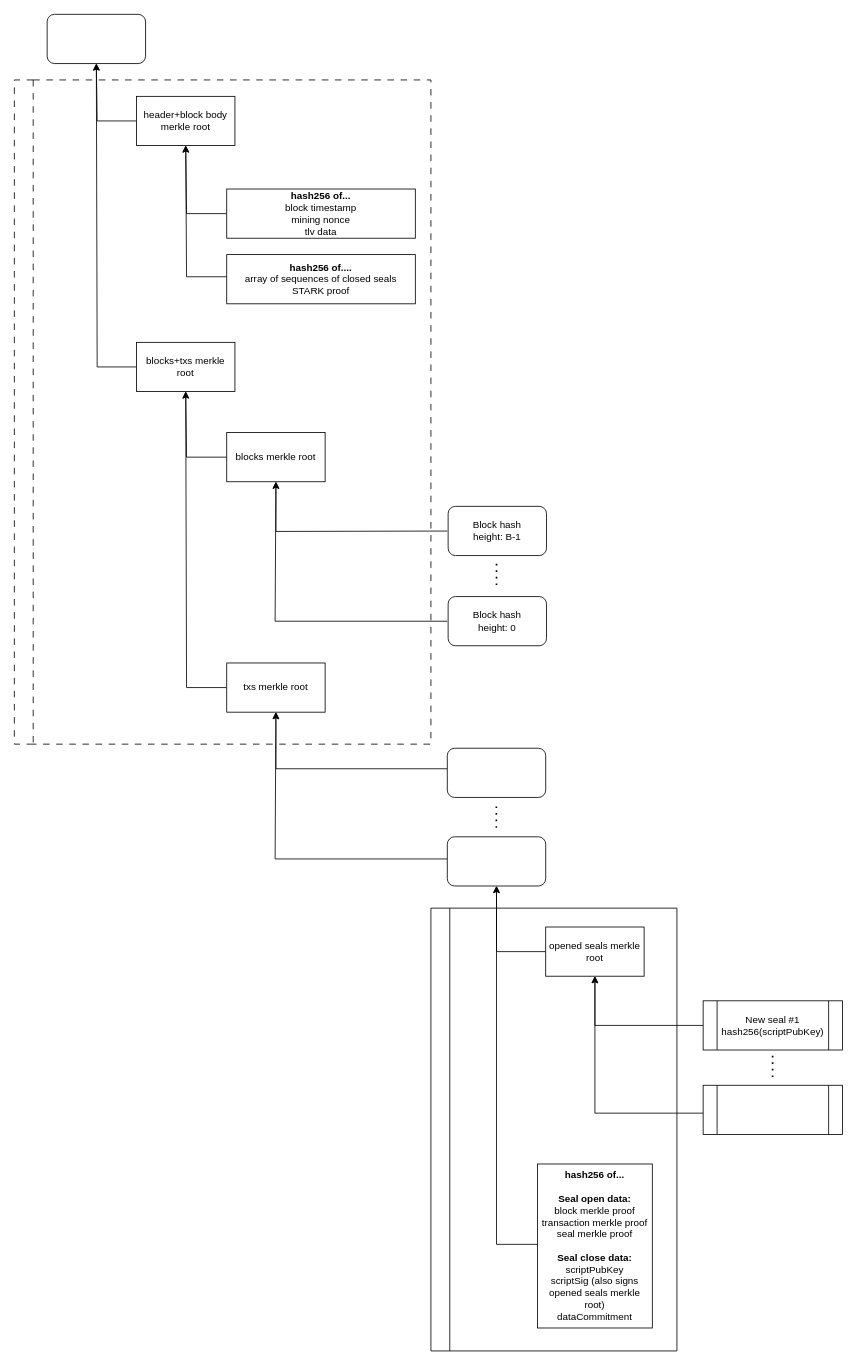
The diagram is 857 pixels wide and 1365 high, and some of its shapes have lost their labels. The centre of each missing label's shape, as x and y in pixels:
Block data: (x=222, y=411)
Block hash height: B: (x=96, y=39)
New seal #M hash256(scriptPubKey): (x=772, y=1109)
Transaction data: (x=553, y=1129)
Transaction hash #1: (x=496, y=861)
Transaction hash #N: (x=496, y=772)
